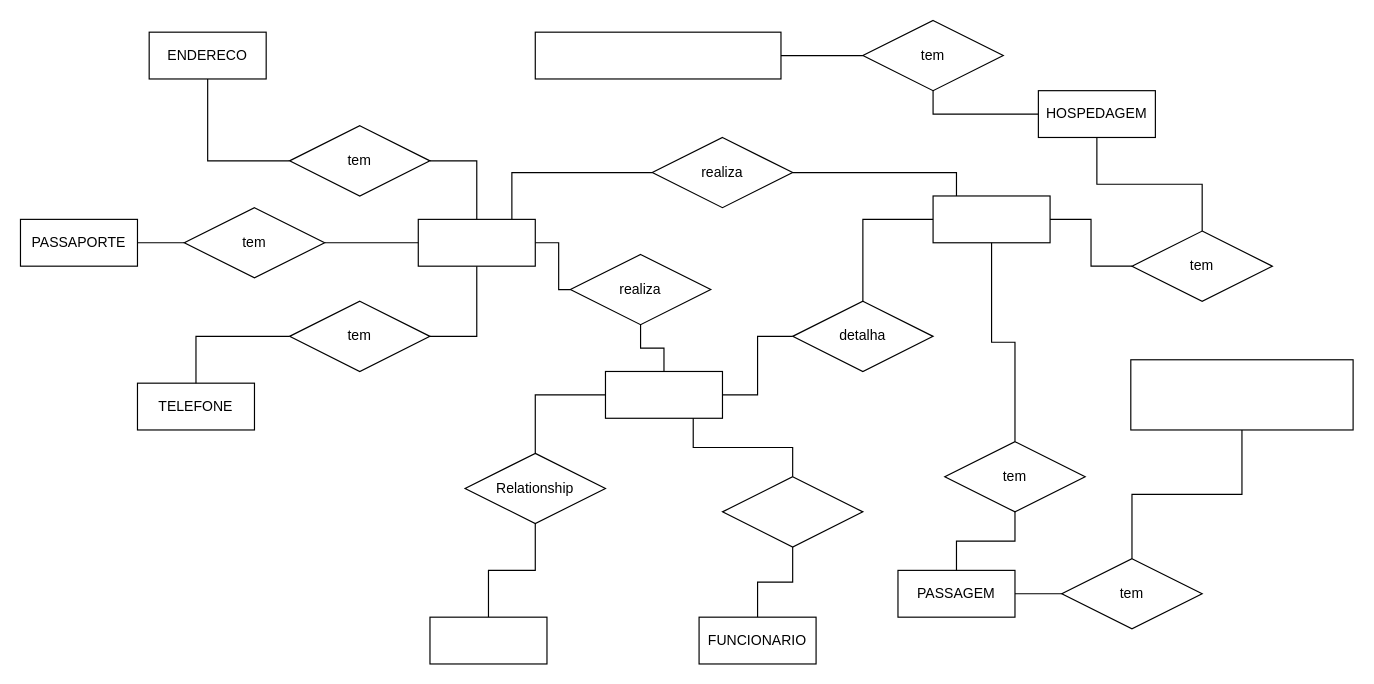
Image size: 1374x684. Some labels were removed from this diagram. The box of each missing label's shape, as (x1, y1, x2, y2) in pixels:
CLIENTE: (417, 218, 535, 266)
DISPONIBILIDADE_HOSPEDAGEM: (534, 31, 781, 79)
DISPONIBILIDADE_PASSAGEM: (1130, 359, 1353, 430)
FORMA DE PAGAMENTO: (429, 616, 547, 664)
participa: (721, 476, 863, 547)
VENDA: (604, 370, 722, 418)
VIAGEM: (932, 195, 1050, 243)
